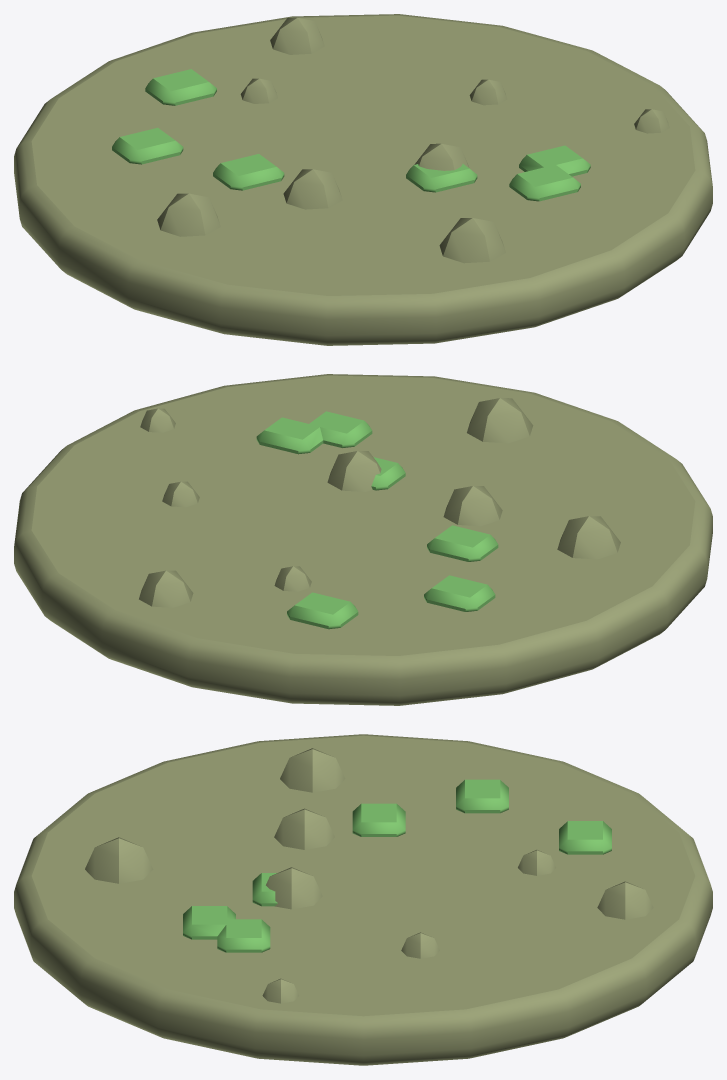
File: kr_soup_mixed.glb
3 renders of one model, top to bottom at view 1: azimuth 30°, elevation 25°; view 2: azimuth 150°, elevation 25°; view 3: azimuth 270°, elevation 25°, orthographic.
Parts seen in each view (by area): view 1: vc_m0_r2, vc_m0_r6; view 2: vc_m0_r2, vc_m0_r6; view 3: vc_m0_r2, vc_m0_r6.
Boxes of the visible parts, <box> form: vc_m0_r2: <box>14,14,712,345</box>; vc_m0_r6: <box>112,69,590,201</box>; vc_m0_r2: <box>14,374,712,705</box>; vc_m0_r6: <box>256,411,498,629</box>; vc_m0_r2: <box>14,734,712,1065</box>; vc_m0_r6: <box>183,779,611,952</box>.
Bounding box in the file's own units: 0.396 × 0.0494 × 0.396.
